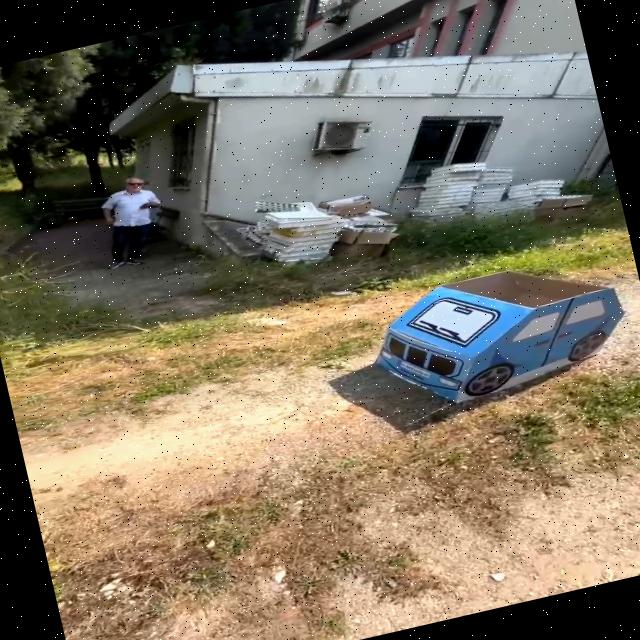blue_car: (325, 231, 640, 437)
